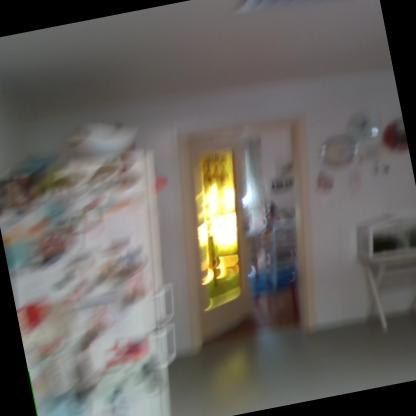semi: (150, 90, 372, 384)
